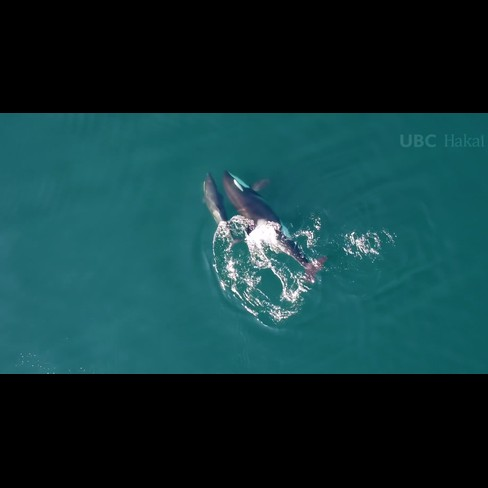orca: (217, 165, 339, 286), (197, 167, 249, 255)
